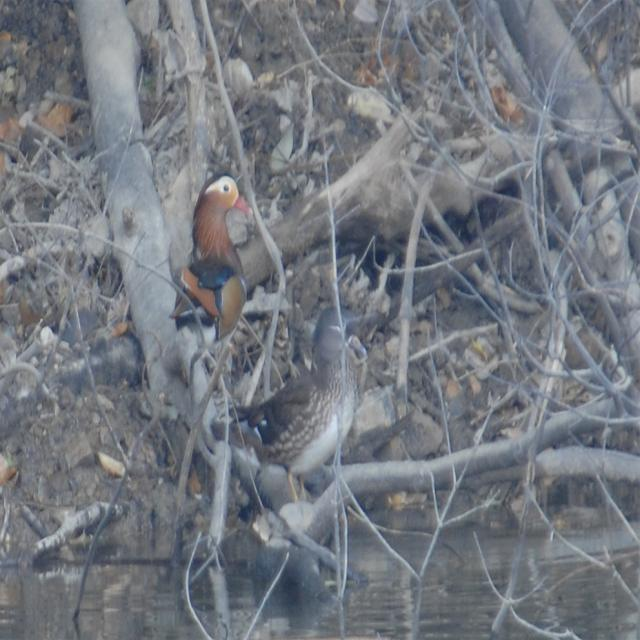bird: (169, 171, 273, 357)
